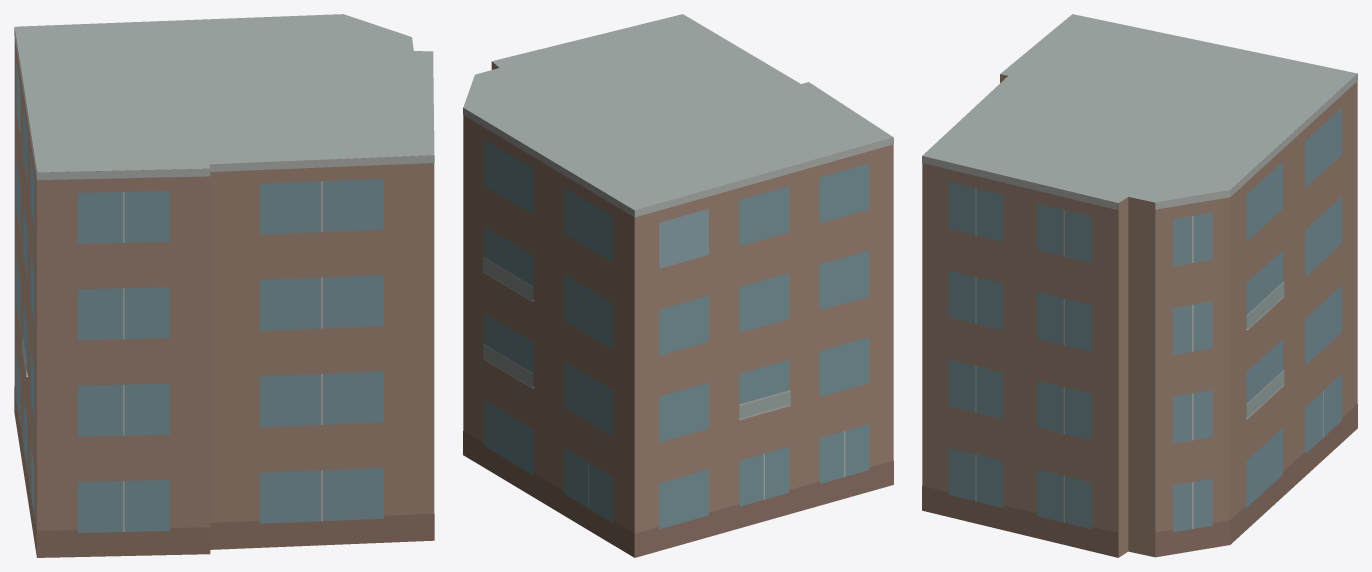
Rendered from survey-upis-32801771.glb.
The picture shows the model from 3 angles, left to right: view 1: azimuth 30°, elevation 25°; view 2: azimuth 150°, elevation 25°; view 3: azimuth 270°, elevation 25°; orthographic projection. The views are drawn at different scales.
Visible parts, largest first — view 1: survey-upis-32801771.tmp; view 2: survey-upis-32801771.tmp; view 3: survey-upis-32801771.tmp.
Boxes of the visible parts, bbox=[...] form: survey-upis-32801771.tmp: bbox=[14, 14, 434, 557]; survey-upis-32801771.tmp: bbox=[463, 14, 893, 557]; survey-upis-32801771.tmp: bbox=[922, 14, 1357, 557].
Size of the model in its own units: 13.84 by 12.1 by 13.48.
